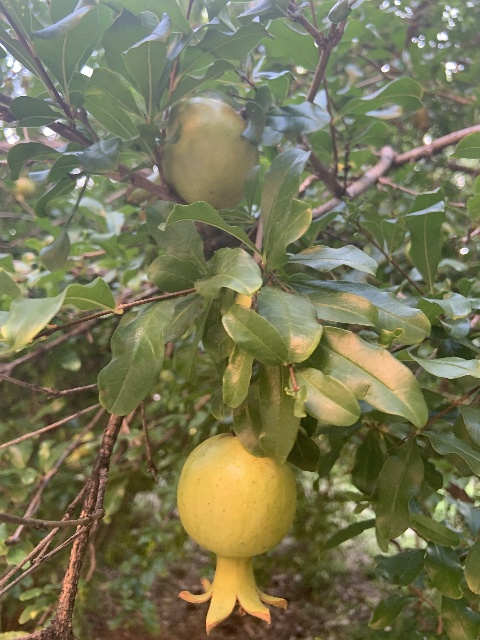mid-growth: (175, 433, 297, 632), (127, 97, 258, 209), (12, 177, 36, 202)
